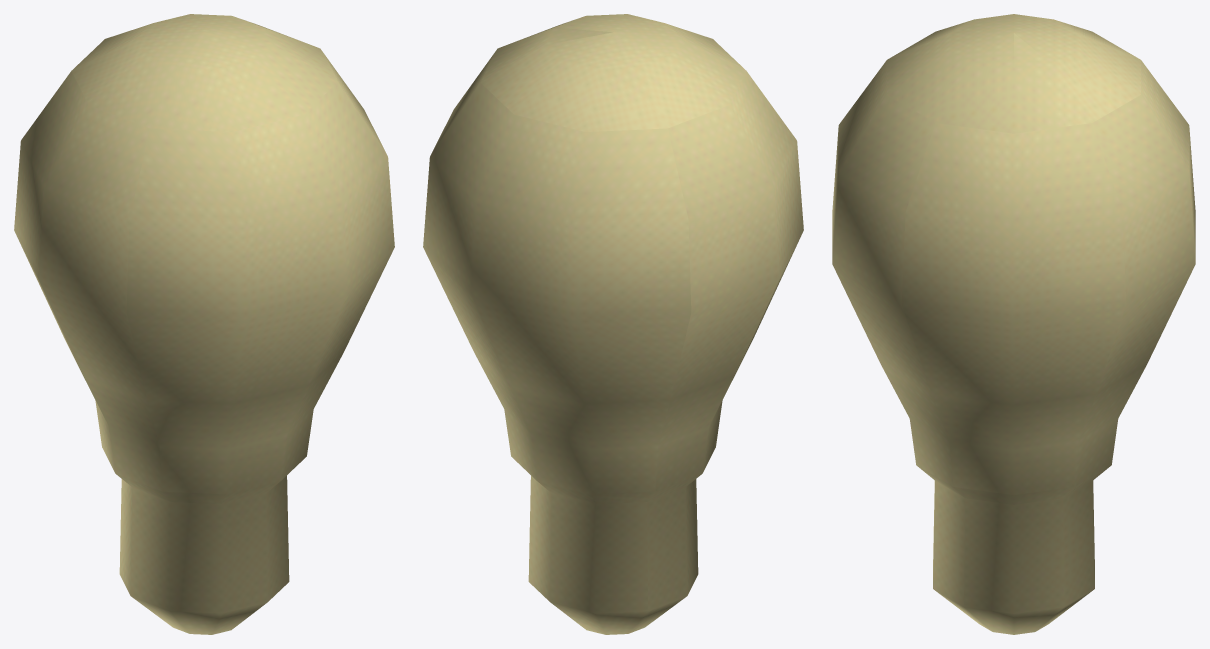
File: Bulb.fbx
The picture shows the model from 3 angles, left to right: view 1: azimuth 30°, elevation 25°; view 2: azimuth 150°, elevation 25°; view 3: azimuth 270°, elevation 25°; orthographic projection.
Parts seen in each view (by area): view 1: Bulb; view 2: Bulb; view 3: Bulb.
Boxes of the visible parts, x1=… form: Bulb: x1=14, y1=14, x2=394, y2=634; Bulb: x1=423, y1=14, x2=803, y2=634; Bulb: x1=832, y1=14, x2=1195, y2=634.
Bounding box in the file's own units: 0.1073 × 0.182 × 0.1021.
Materials: 1 (1 with a texture image).
